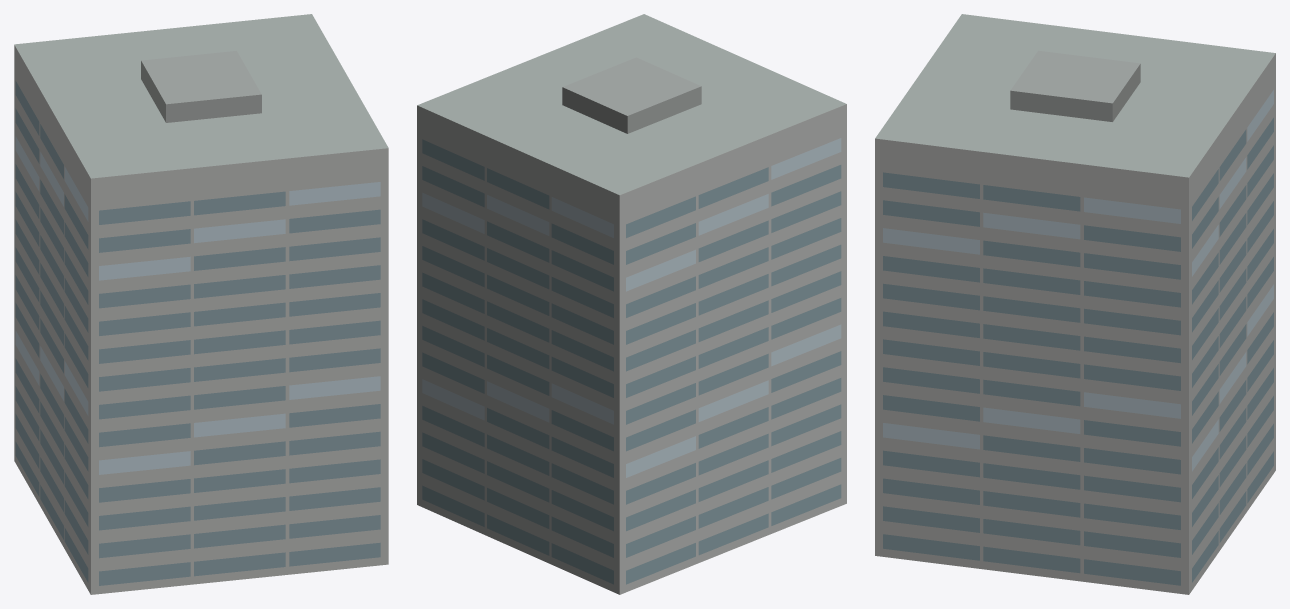
The model's file is fallback-olympic-park-foreon-305.glb.
3 renders of one model, left to right at view 1: azimuth 30°, elevation 25°; view 2: azimuth 150°, elevation 25°; view 3: azimuth 270°, elevation 25°, orthographic. The views are drawn at different scales.
Parts seen in each view (by area): view 1: fallback-olympic-park-foreon-305; view 2: fallback-olympic-park-foreon-305; view 3: fallback-olympic-park-foreon-305.
Boxes of the visible parts, x1,y1,x2,y2 form: fallback-olympic-park-foreon-305: (14, 14, 388, 594); fallback-olympic-park-foreon-305: (417, 14, 846, 594); fallback-olympic-park-foreon-305: (875, 14, 1275, 594).
Size of the model in its own units: 38.47 by 47.81 by 39.83.
